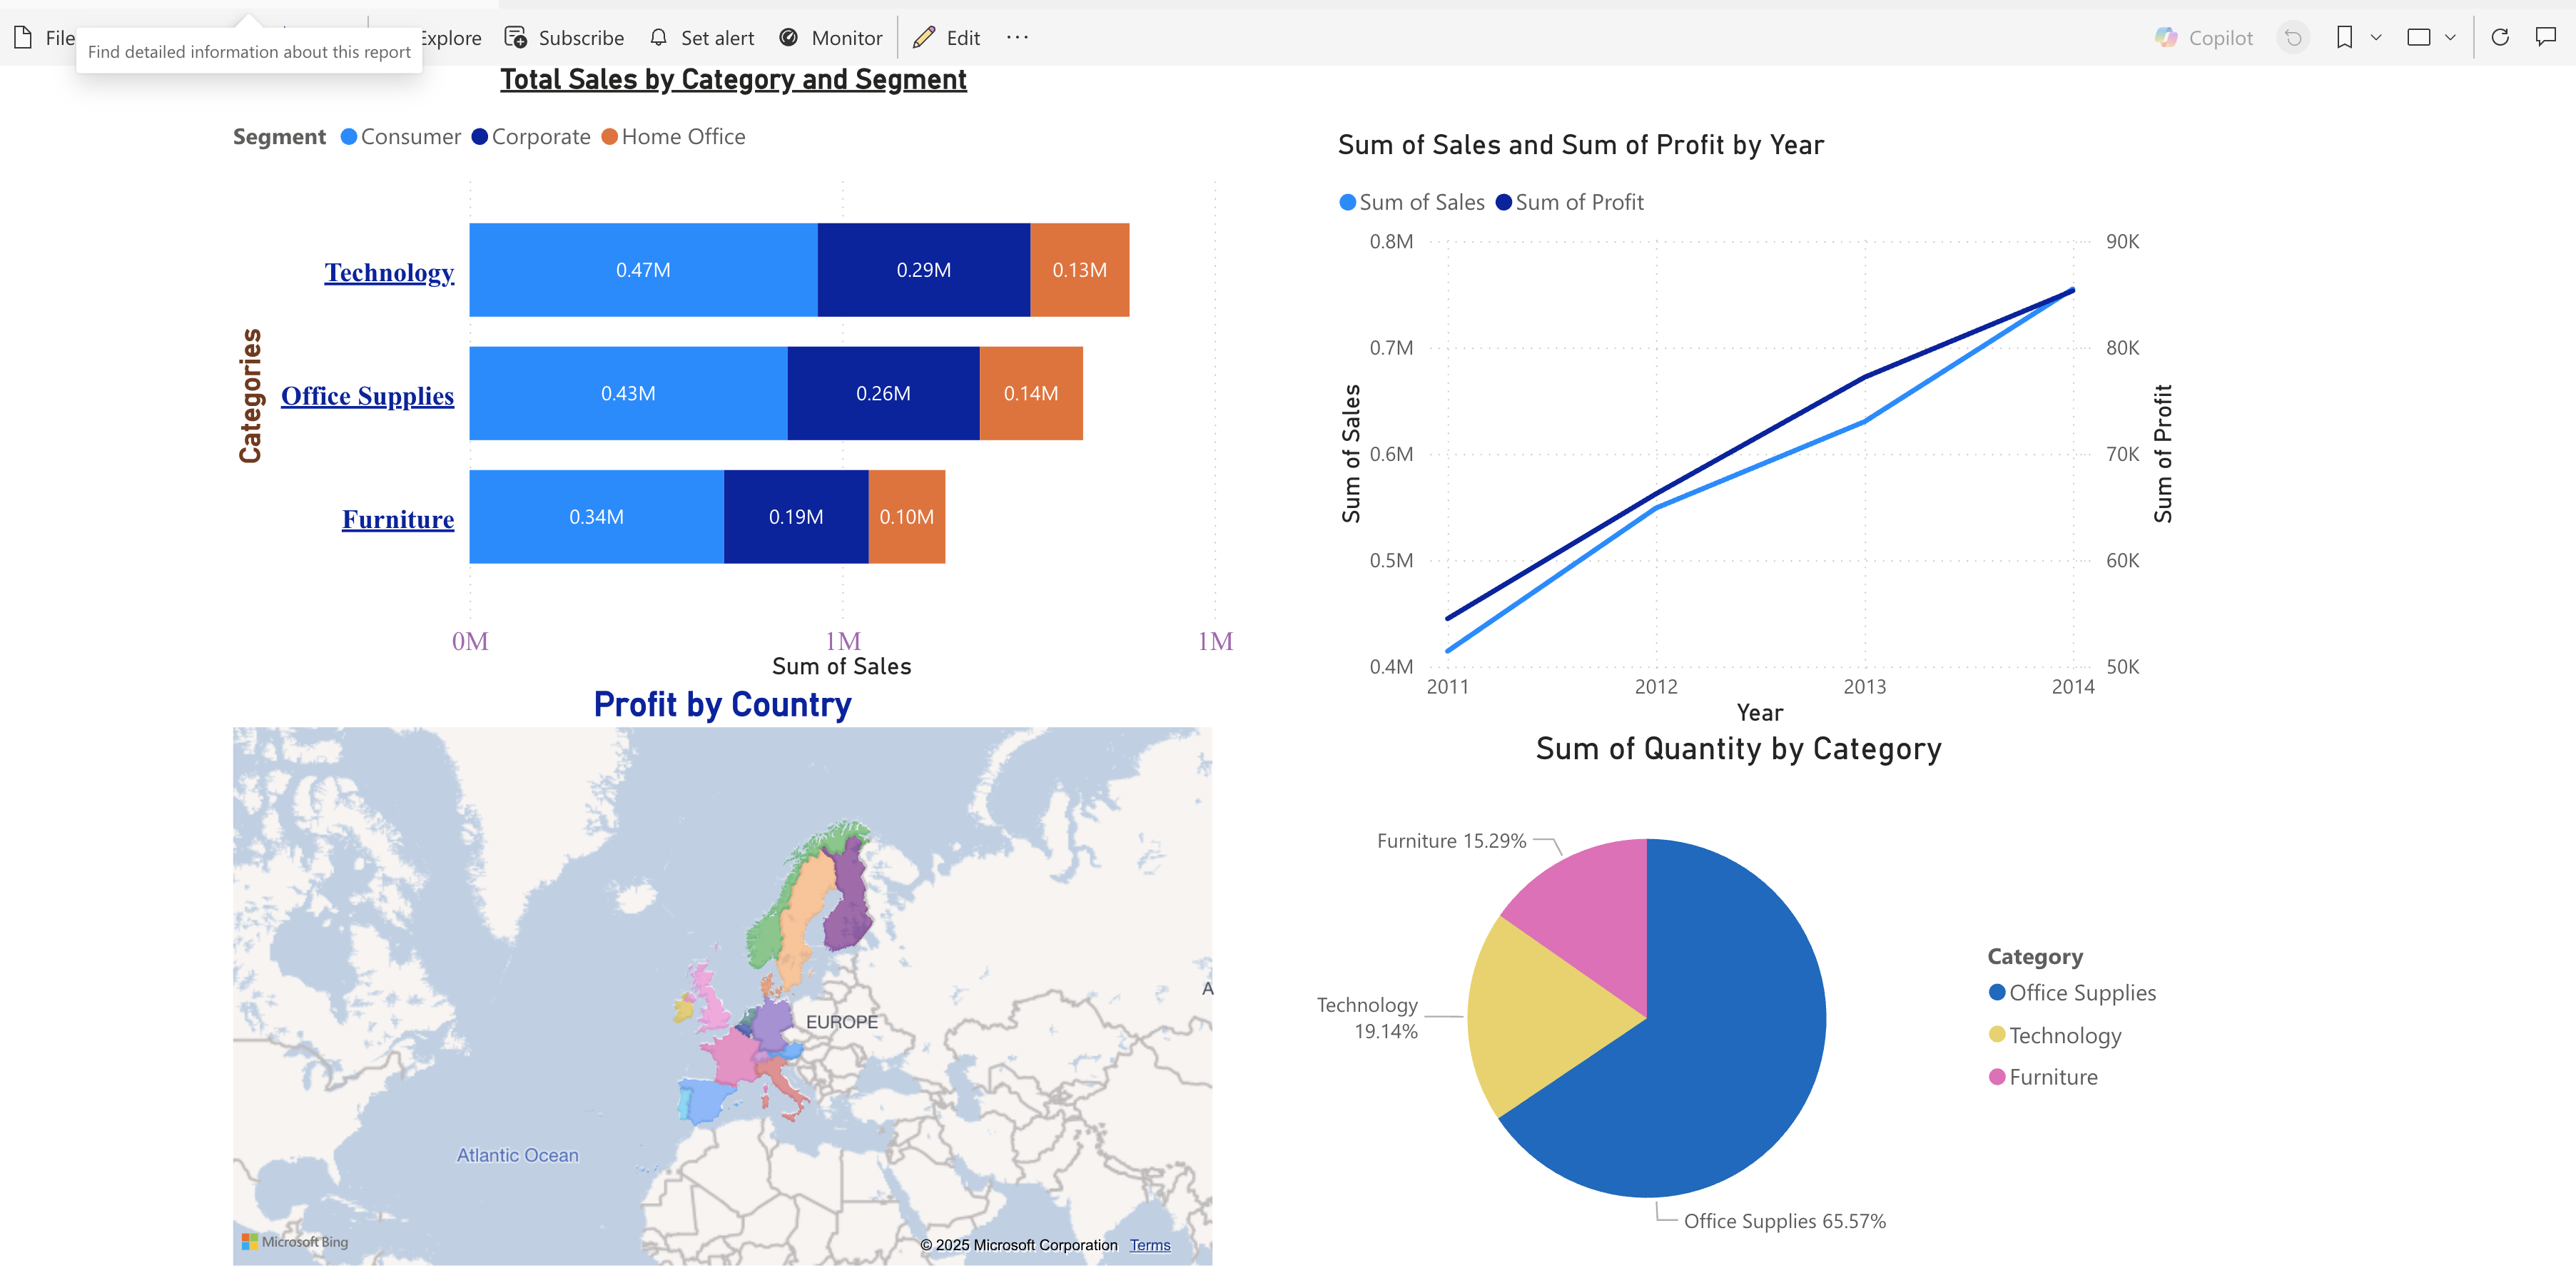

Layout of this report page (visuals, bound fields, positions):
{"tool":"powerbi","page":{"name":"Page 1","canvas":[1280,720],"ordinal":0},"visuals":[{"type":"barChart","title":"Total Sales by Category and Segment","fields":{"Category":["OrderBreakdown.Category"],"Y":["Sum(OrderBreakdown.Sales)"],"Series":["ListOfOrders.Segment"]},"box":[0,0,607.2,370.8],"z":0},{"type":"filledMap","title":" Profit by Country ","fields":{"Category":["ListOfOrders.Country"],"Series":["ListOfOrders.Country"]},"box":[0,370.8,594.3,349.8],"z":1},{"type":"lineChart","fields":{"Category":["ListOfOrders.Order Date.Variation.Date Hierarchy.Year","ListOfOrders.Order Date.Variation.Date Hierarchy.Quarter","ListOfOrders.Order Date.Variation.Date Hierarchy.Month","ListOfOrders.Order Date.Variation.Date Hierarchy.Day"],"Y":["Sum(OrderBreakdown.Sales)"],"Y2":["Sum(OrderBreakdown.Profit)"]},"box":[659,38.9,506.8,359.5],"z":2},{"type":"pieChart","fields":{"Category":["OrderBreakdown.Category"],"Y":["Sum(OrderBreakdown.Quantity)"]},"box":[639.6,398.3,526.2,322.2],"z":3}]}

Visuals, with their boxes on the page's 1280x720 design canvas (x1, y1, x2, y2). These are canvas units, not pixel positions in the 2576x1273 screenshot, which may show the page scaled, cropped or inside an application window:
"Total Sales by Category and Segment" barChart: left=0, top=0, right=607, bottom=371
" Profit by Country " filledMap: left=0, top=371, right=594, bottom=721
lineChart - ListOfOrders.Order Date.Variation.Date Hierarchy.Year x ListOfOrders.Order Date.Variation.Date Hierarchy.Quarter: left=659, top=39, right=1166, bottom=398
pieChart - OrderBreakdown.Category x Sum(OrderBreakdown.Quantity): left=640, top=398, right=1166, bottom=720
